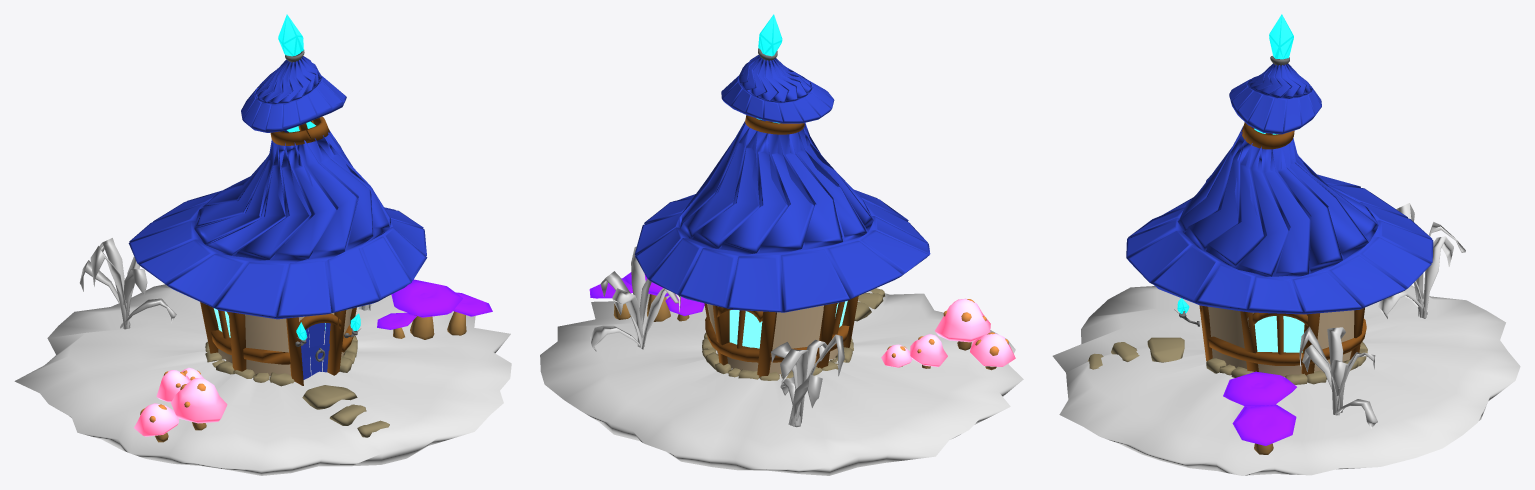
The model's file is uploads_files_4012489_Fairy+house+1.fbx.
3 renders of one model, left to right at view 1: azimuth 30°, elevation 25°; view 2: azimuth 150°, elevation 25°; view 3: azimuth 270°, elevation 25°, orthographic. The views are drawn at different scales.
Visible parts, largest first — view 1: House, Ground, Mushroom, Mushroom 2, Plant 1, Ground rocks; view 2: House, Ground, Mushroom, Plant 1, PlaNt 2, Mushroom 2, Ground rocks; view 3: House, Ground, Mushroom 2, PlaNt 2, Plant 1, Ground rocks.
Part boxes in pixels (x1,y1,x2,y2): House: [128, 14, 427, 386]; Ground: [14, 284, 511, 475]; Mushroom: [134, 367, 227, 442]; Mushroom 2: [377, 279, 492, 339]; Plant 1: [79, 238, 176, 329]; Ground rocks: [302, 385, 389, 437]; House: [634, 14, 930, 380]; Ground: [540, 291, 1023, 475]; Mushroom: [881, 298, 1015, 370]; Plant 1: [771, 334, 844, 427]; PlaNt 2: [590, 246, 680, 351]; Mushroom 2: [589, 272, 704, 321]; Ground rocks: [854, 288, 885, 321]; House: [1126, 14, 1433, 384]; Ground: [1052, 285, 1520, 475]; Mushroom 2: [1223, 371, 1296, 454]; PlaNt 2: [1299, 326, 1377, 428]; Plant 1: [1378, 203, 1465, 319]; Ground rocks: [1087, 337, 1184, 369].
Size of the model in its own units: 733 by 607 by 683.
